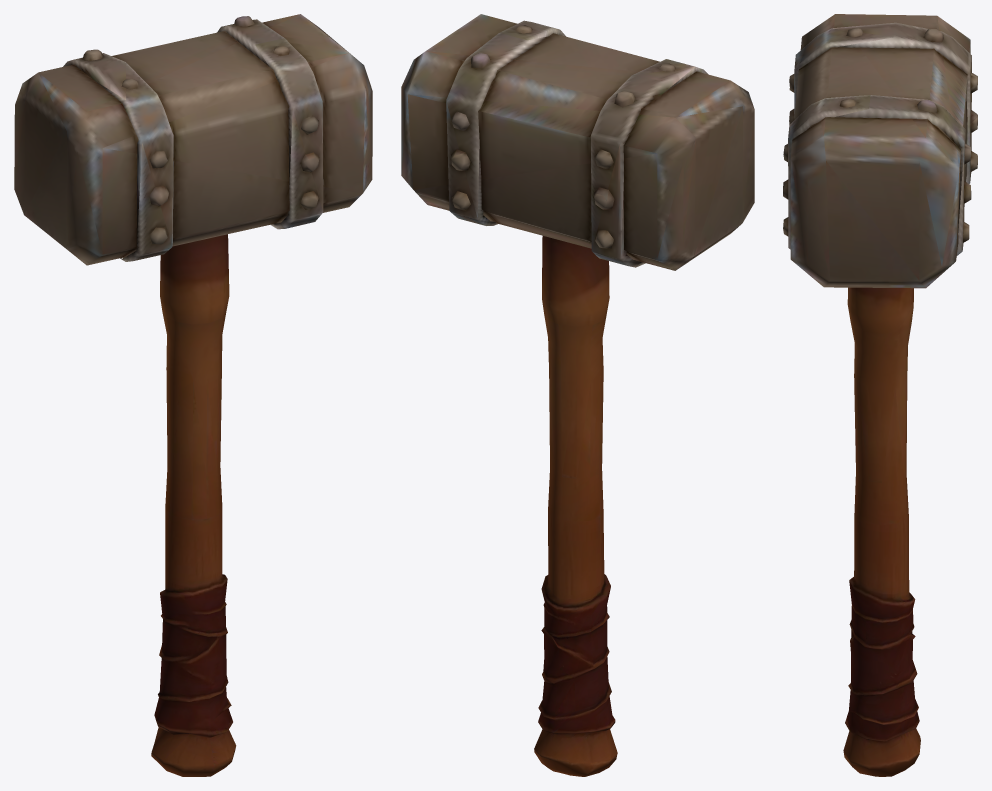
Rendered from hammer_field_2h_steel.glb.
3 renders of one model, left to right at view 1: azimuth 30°, elevation 25°; view 2: azimuth 150°, elevation 25°; view 3: azimuth 270°, elevation 25°, orthographic. The views are drawn at different scales.
Parts seen in each view (by area): view 1: tripo_node_9cd1b8bf-214c-4f95-8fef-001042044131; view 2: tripo_node_9cd1b8bf-214c-4f95-8fef-001042044131; view 3: tripo_node_9cd1b8bf-214c-4f95-8fef-001042044131.
Part boxes in pixels (<box>): tripo_node_9cd1b8bf-214c-4f95-8fef-001042044131: <box>14,14,372,776</box>; tripo_node_9cd1b8bf-214c-4f95-8fef-001042044131: <box>401,14,754,776</box>; tripo_node_9cd1b8bf-214c-4f95-8fef-001042044131: <box>783,14,977,776</box>.
Size of the model in its own units: 0.6205 by 1.45 by 0.365.
Materials: 1 (1 with a texture image).
